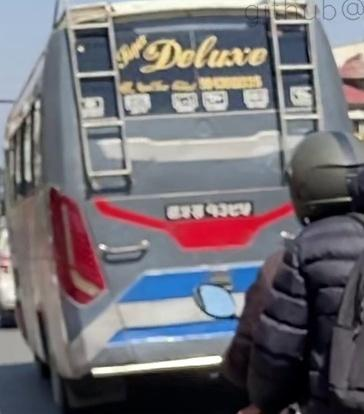license-plate: (166, 201, 259, 220)
